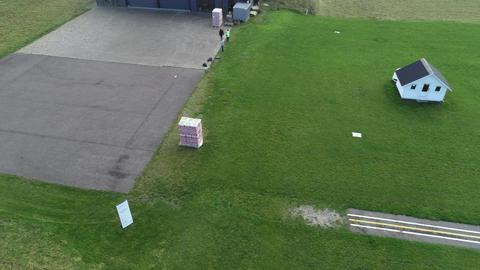RockwoolPallet: (177, 116, 204, 148)
